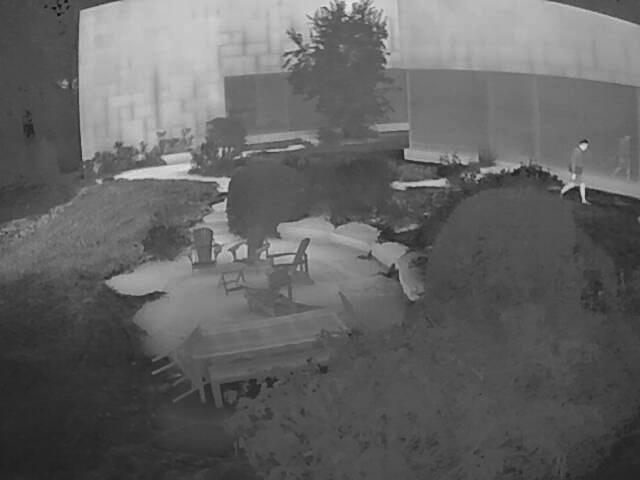person: (559, 138, 590, 206), (609, 130, 634, 186)
